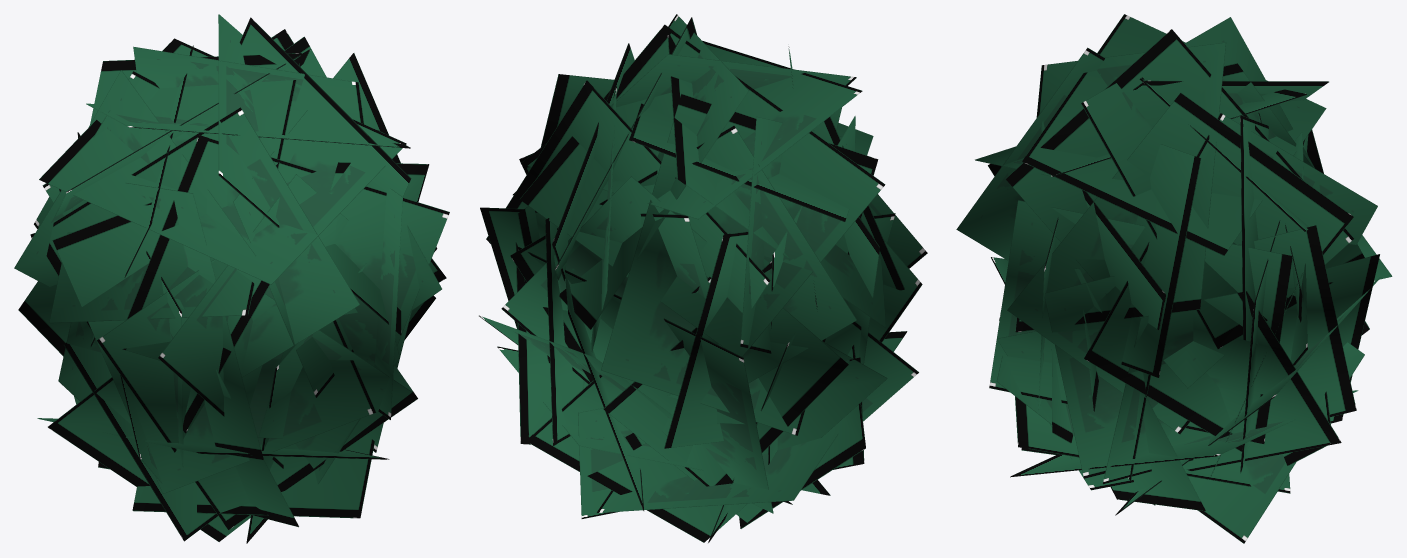
3 views of the same model, side by side, from view 1: azimuth 30°, elevation 25°; view 2: azimuth 150°, elevation 25°; view 3: azimuth 270°, elevation 25° (orthographic). The views are drawn at different scales.
Parts seen in each view (by area): view 1: Test arbre1; view 2: Test arbre1; view 3: Test arbre1.
Boxes of the visible parts, left/top/right/bottom form: Test arbre1: left=14, top=14, right=449, bottom=543; Test arbre1: left=479, top=14, right=927, bottom=542; Test arbre1: left=956, top=14, right=1392, bottom=543.
Bounding box in the file's own units: 381 × 486 × 387.
